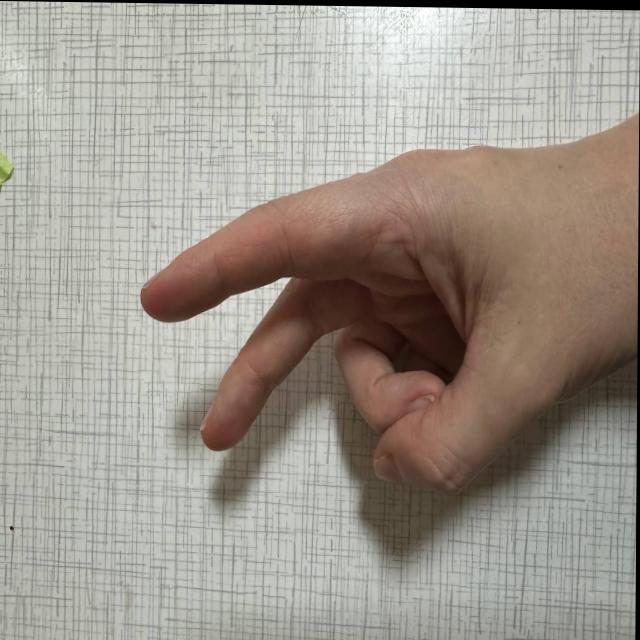k: (134, 137, 512, 539)
